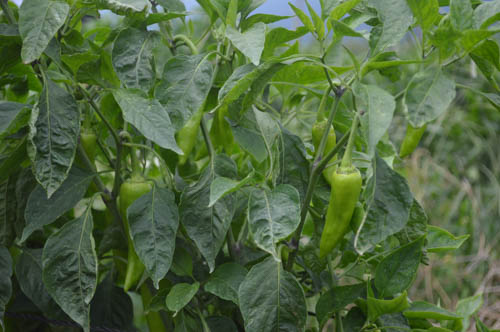ChiliPepper: (119, 184, 157, 289), (318, 171, 360, 255), (176, 59, 206, 164), (310, 122, 339, 186)
